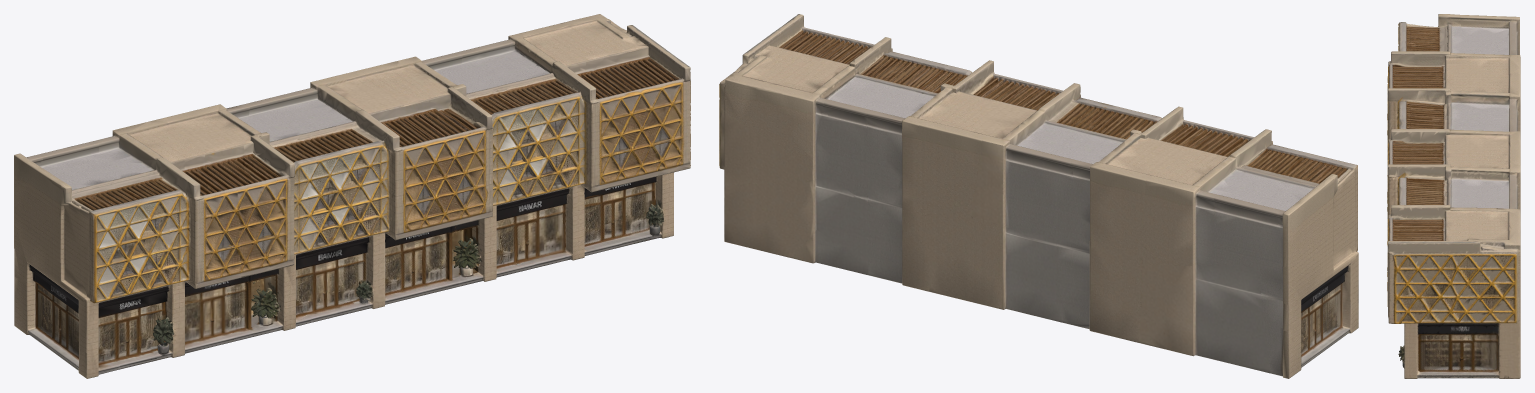
Rendered from shophouse.glb.
3 renders of one model, left to right at view 1: azimuth 30°, elevation 25°; view 2: azimuth 150°, elevation 25°; view 3: azimuth 270°, elevation 25°, orthographic. The views are drawn at different scales.
Parts seen in each view (by area): view 1: mesh_node; view 2: mesh_node; view 3: mesh_node.
Boxes of the visible parts, bbox=[...] form: mesh_node: bbox=[14, 14, 690, 378]; mesh_node: bbox=[719, 14, 1358, 378]; mesh_node: bbox=[1387, 14, 1520, 378].
Size of the model in its own units: 1.9 by 0.5364 by 0.4646.
Materials: 1 (1 with a texture image).
